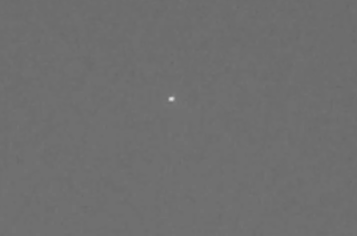Target: (169, 97, 175, 102)
